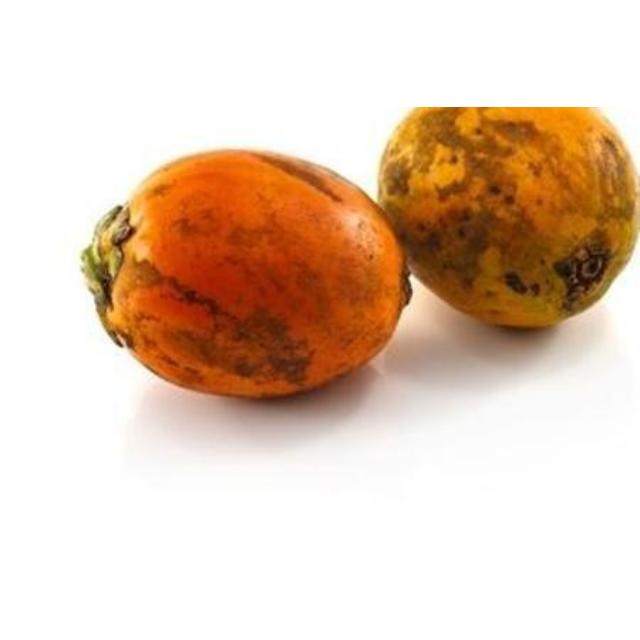good: (81, 150, 412, 401), (375, 107, 639, 332)
